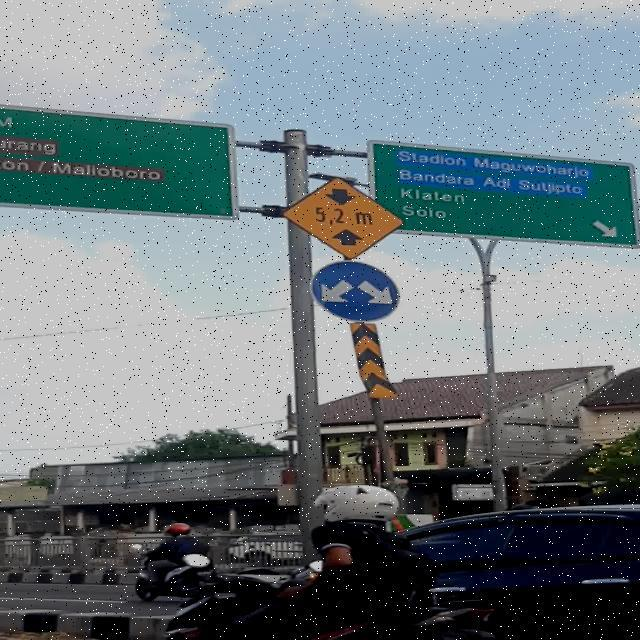Pilih Salah Satu Jalur: (310, 260, 400, 322)
